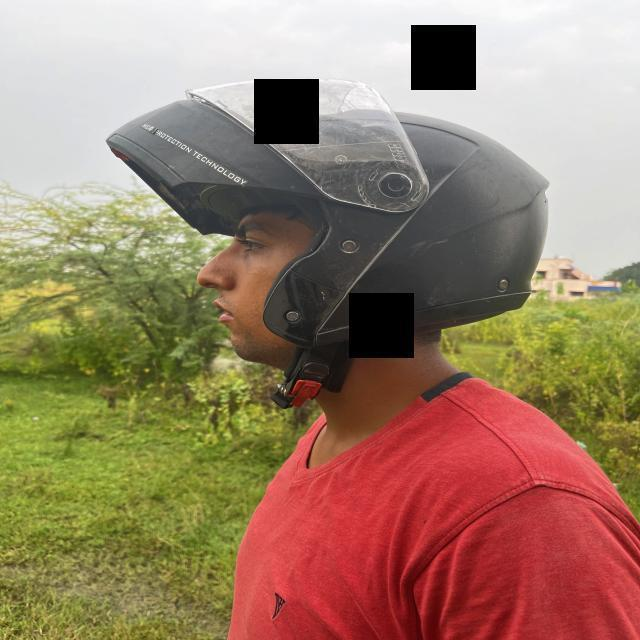helmet: (104, 76, 548, 410)
